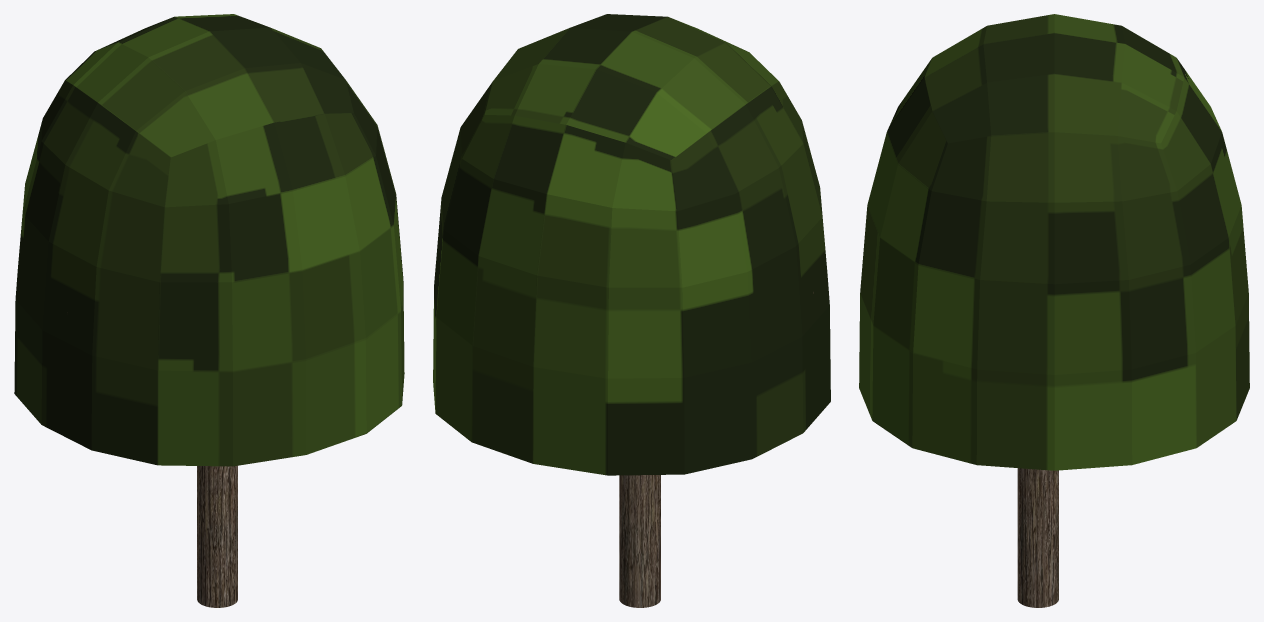
File: Tree.fbx
3 renders of one model, left to right at view 1: azimuth 30°, elevation 25°; view 2: azimuth 150°, elevation 25°; view 3: azimuth 270°, elevation 25°, orthographic. The views are drawn at different scales.
Visible parts, largest first — view 1: Cube, Cylinder; view 2: Cube, Cylinder; view 3: Cube, Cylinder.
Boxes of the visible parts, x1,y1,x2,y2 form: Cube: (14, 14, 404, 466); Cylinder: (67, 312, 237, 607); Cube: (433, 14, 830, 475); Cylinder: (619, 292, 813, 607); Cube: (859, 14, 1249, 470); Cylinder: (1017, 468, 1058, 607).
Size of the model in its own units: 1890 by 3022 by 1890.
